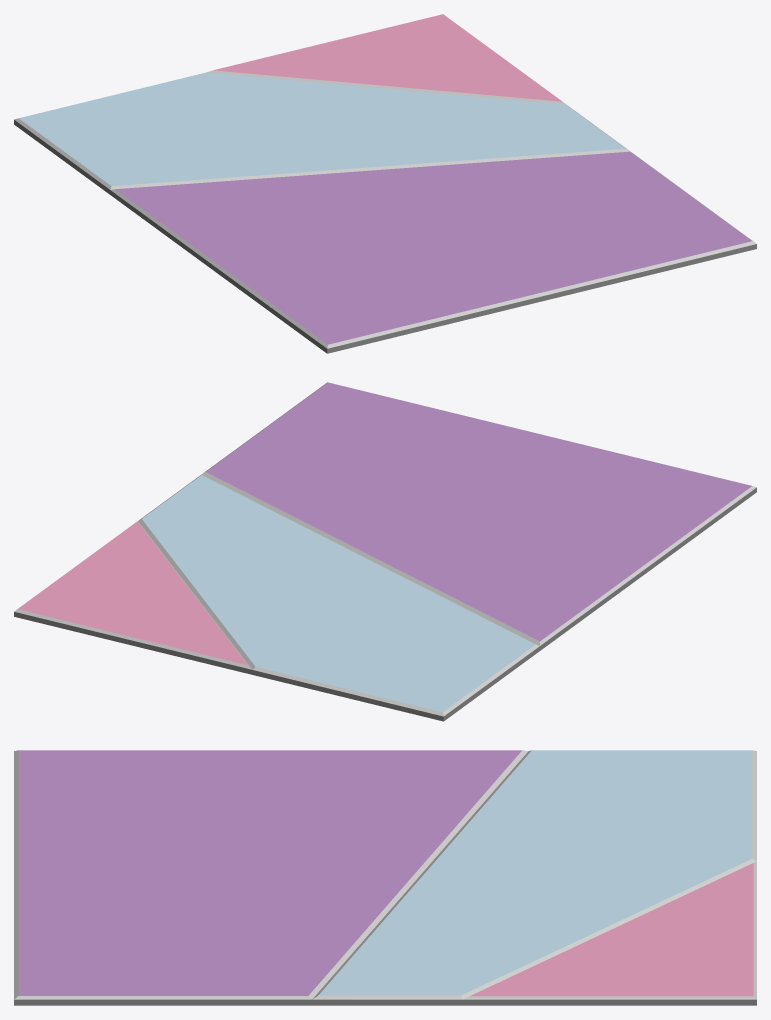
3 views of the same model, one above another, from view 1: azimuth 30°, elevation 25°; view 2: azimuth 150°, elevation 25°; view 3: azimuth 270°, elevation 25° (orthographic). The views are drawn at different scales.
Visible parts, largest first — view 1: Kostka; view 2: Kostka; view 3: Kostka.
Part boxes in pixels (bbox=[...]): Kostka: bbox=[14, 14, 756, 353]; Kostka: bbox=[14, 382, 756, 721]; Kostka: bbox=[14, 750, 756, 1005].
Bounding box in the file's own units: 615 × 9.68 × 776.
Materials: 1 (1 with a texture image).
